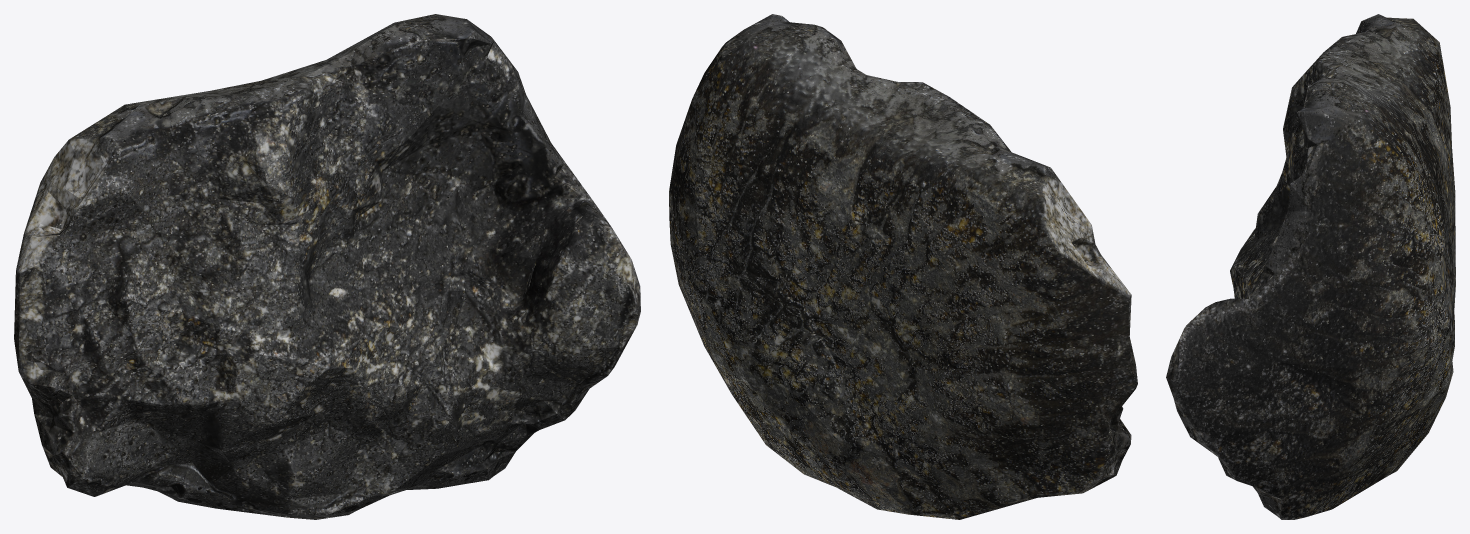
Rendered from GRO17176-0.fbx.
3 views of the same model, side by side, from view 1: azimuth 30°, elevation 25°; view 2: azimuth 150°, elevation 25°; view 3: azimuth 270°, elevation 25° (orthographic). The views are drawn at different scales.
Visible parts, largest first — view 1: GRO17176-0; view 2: GRO17176-0; view 3: GRO17176-0.
Boxes of the visible parts, box(x1,y1,x2,y2) form: GRO17176-0: box(14, 14, 640, 519); GRO17176-0: box(669, 14, 1137, 519); GRO17176-0: box(1166, 14, 1455, 519).
Bounding box in the file's own units: 91.49 × 76.83 × 47.88.
